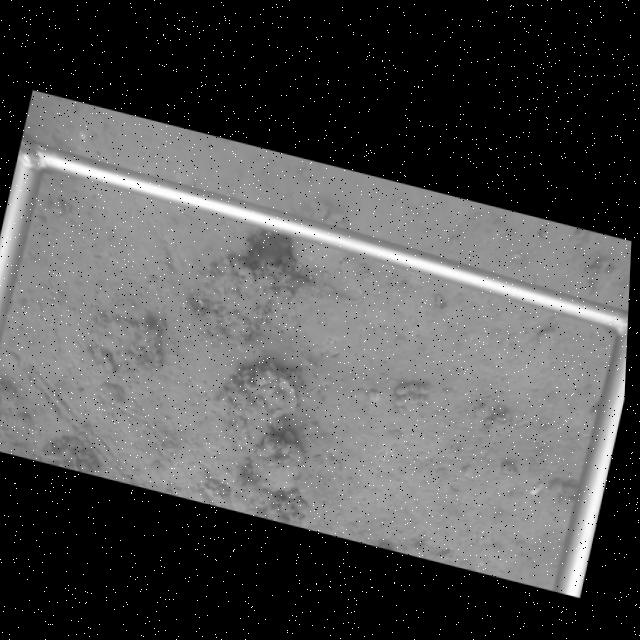Oyster-Indeterminate: (250, 437, 305, 494), (246, 371, 302, 420)
